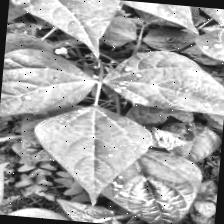Bean Rust: (30, 104, 152, 210), (101, 44, 224, 121), (0, 47, 95, 134), (102, 145, 202, 224), (194, 21, 224, 68), (185, 6, 224, 26)
